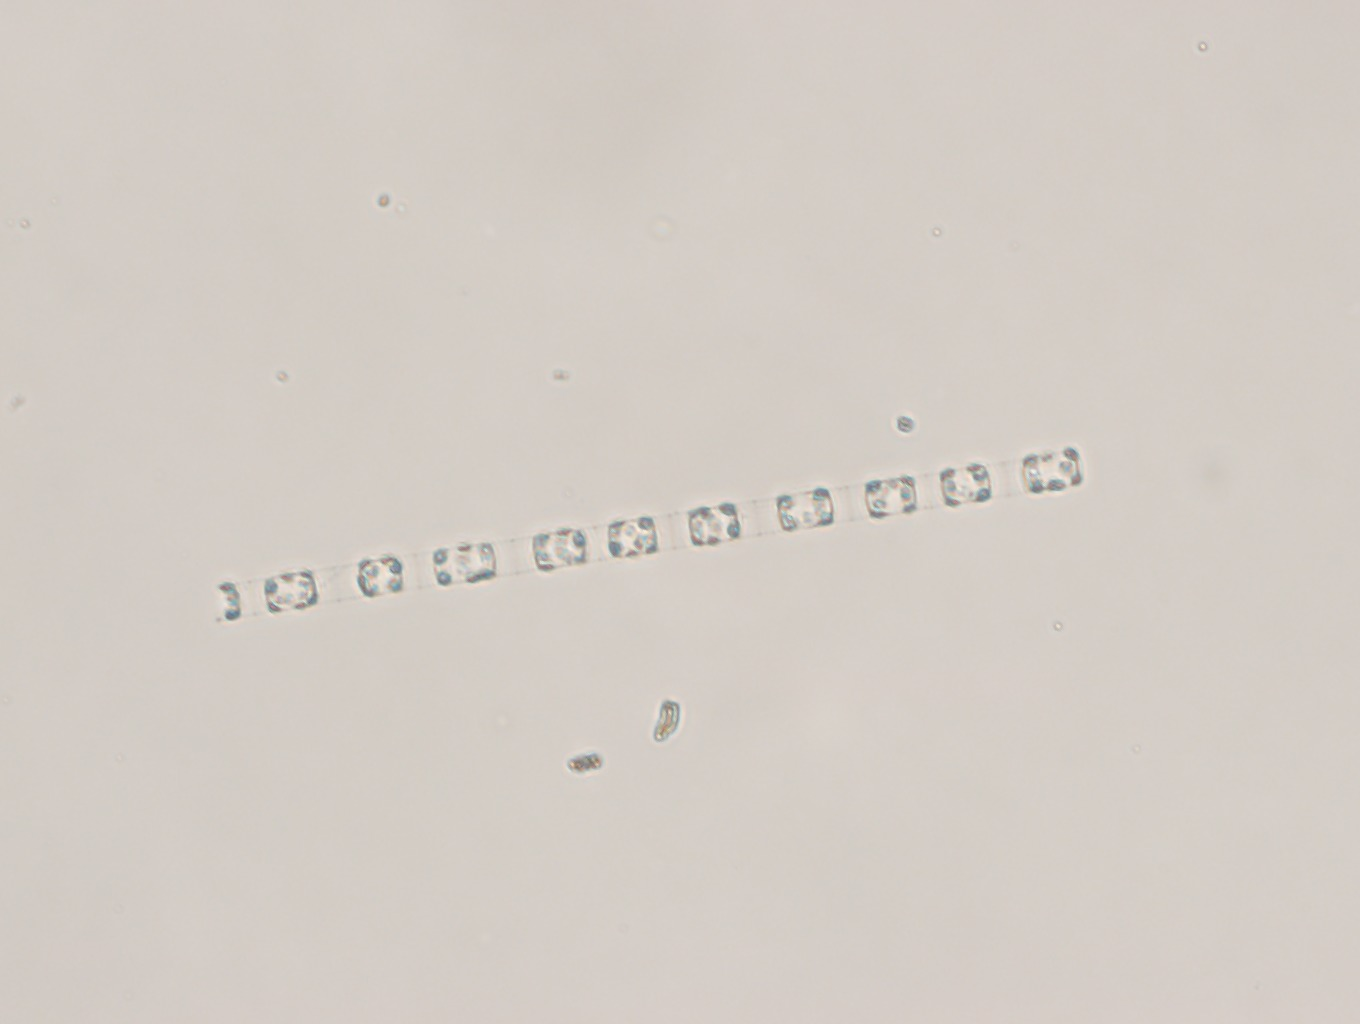skeletonema: (207, 450, 1084, 624)
